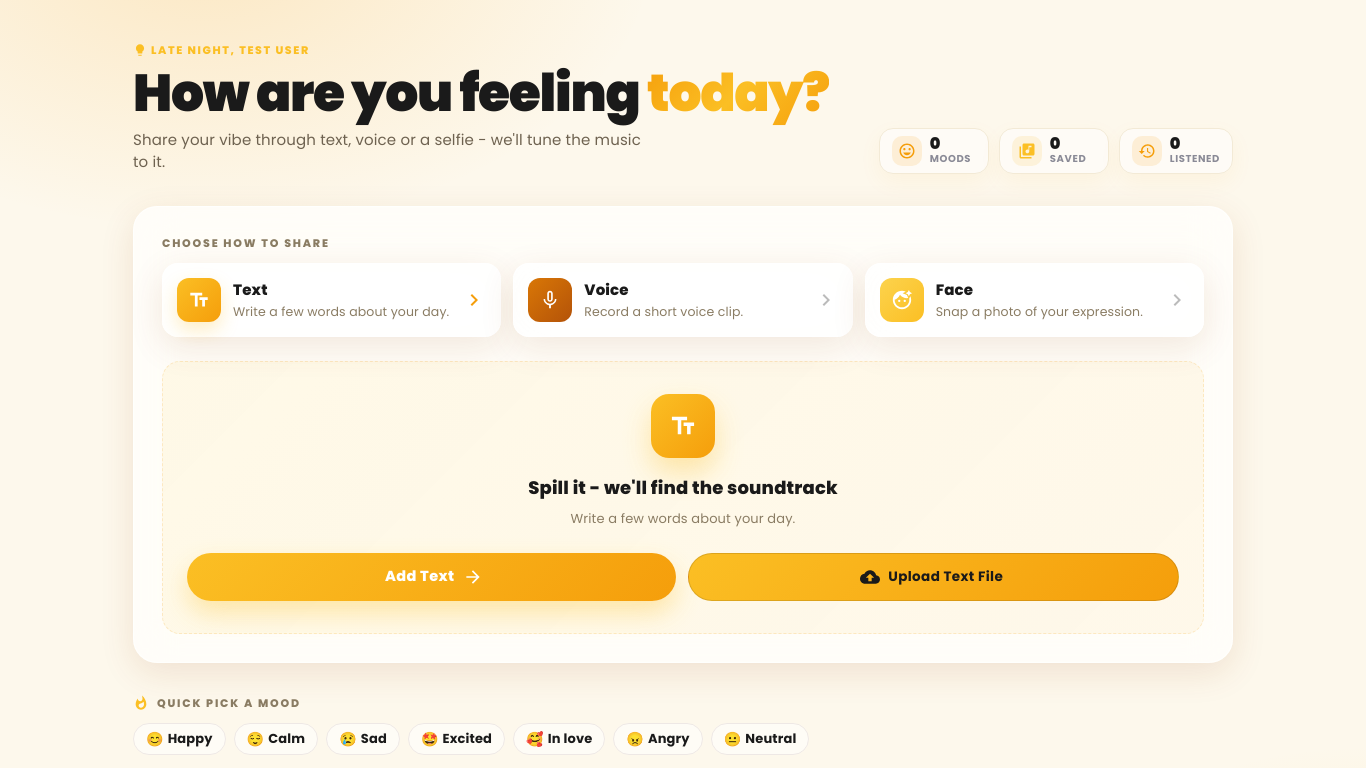
Test: <HomePage /> › switches to face mode when the Face tile is clicked
The width and height of the screenshot is (1366, 768).
Click the Face mode tile (text node is inside a Paper card).
Click the text "Face".
click(954, 289)  # box [936,279,973,300]
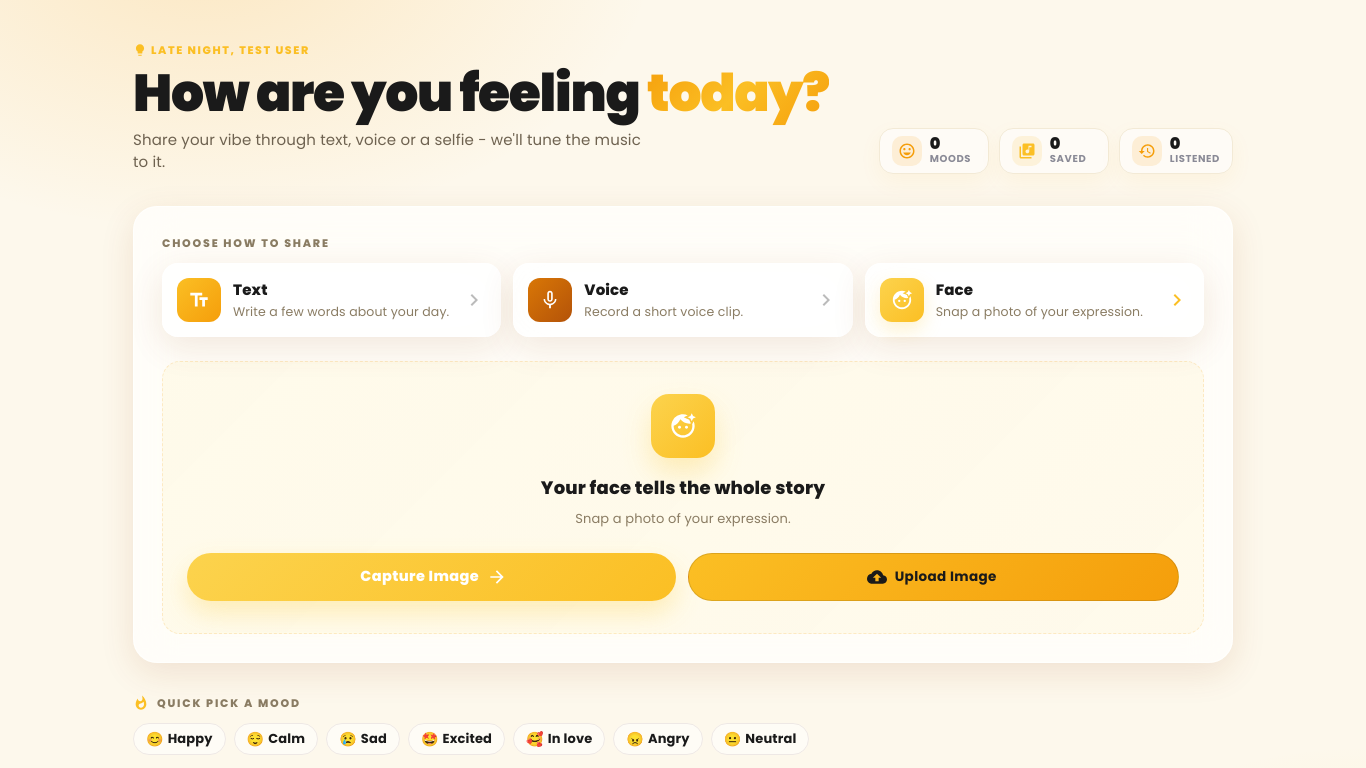
Expected: the button "Capture Image" is shown, [187,553,676,601]
Expected: the button "Upload Image" is shown
Click the button "Upload Image".
click(934, 577)  # box [688,553,1179,601]
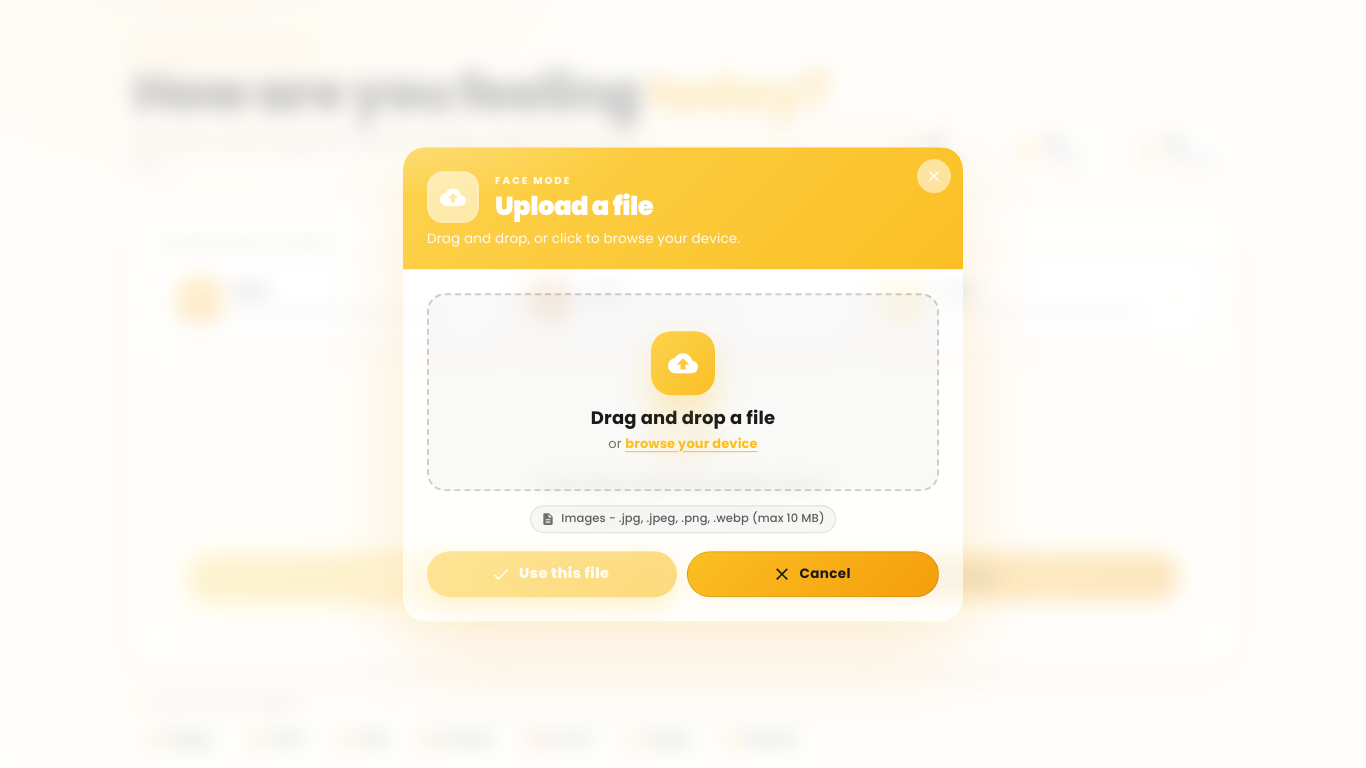
Expected: the button "Drag and drop a file or browse your device" is shown, [427,293,939,491]
